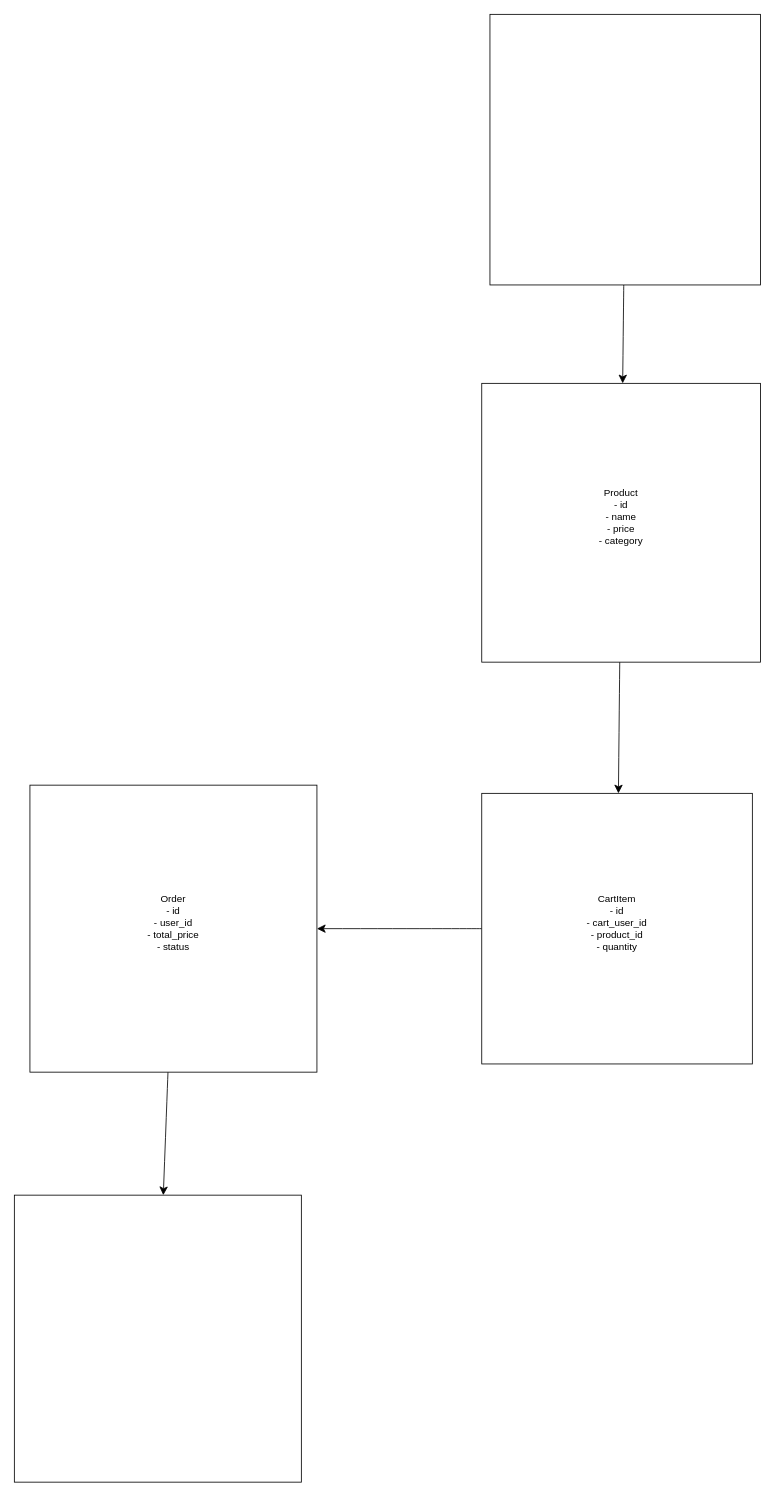
Image size: 775x1497. Some labels were removed from this diagram. The centre of each missing label's shape, as x and y in pixels:
"OrderItem - id - order_id - product_id - quantity" goes at [157,1338].
"User - id - username - email - password" goes at [625,149].
